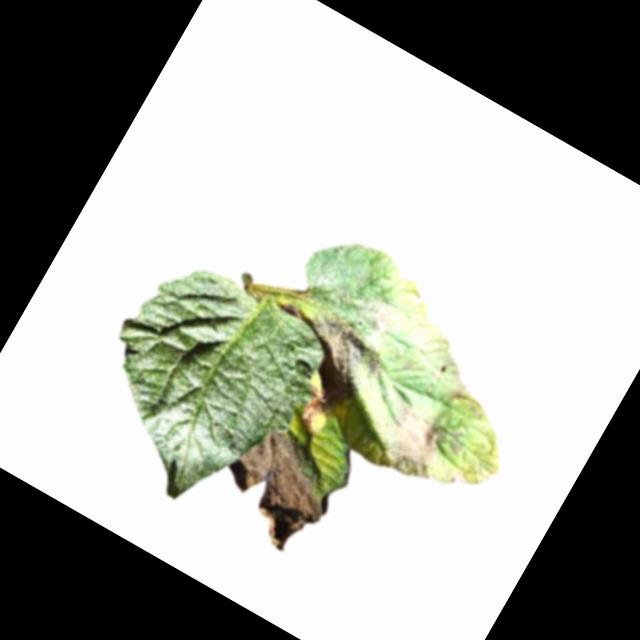Late_blight: (206, 413, 352, 562), (282, 304, 392, 412), (369, 401, 454, 488), (340, 281, 411, 344), (289, 385, 337, 439), (442, 461, 472, 492), (404, 289, 431, 314)
